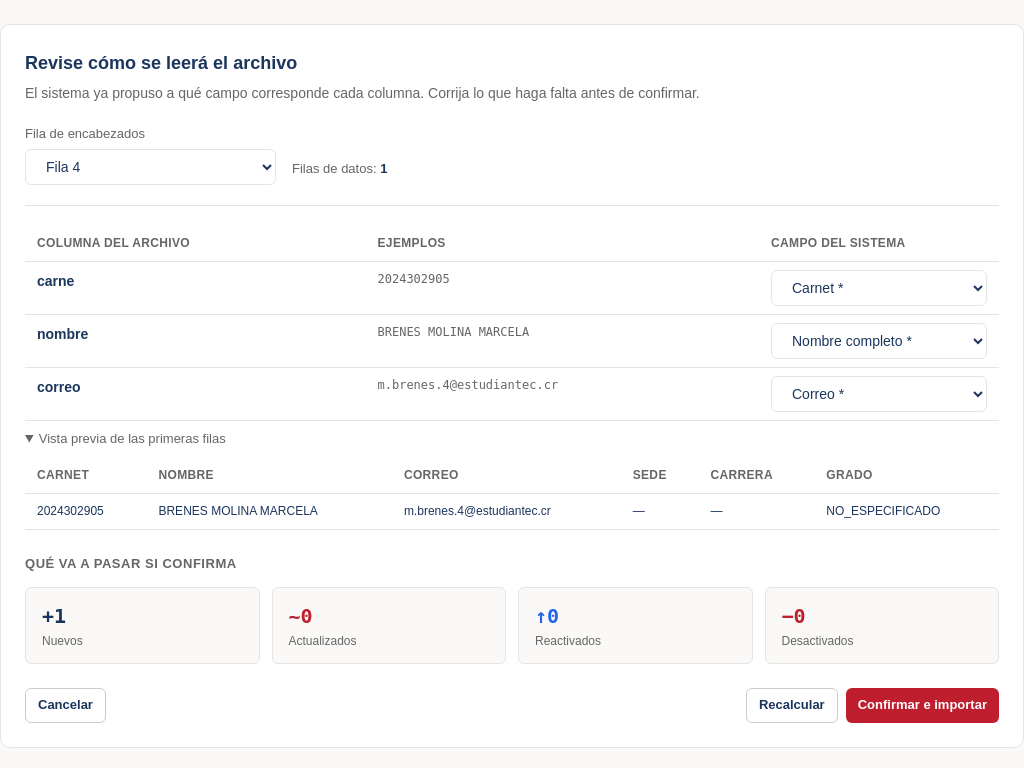
ColumnMapper › obliga a recalcular después de cambiar una columna
Select "Sede" in the dropdown named "Campo para la columna correo" at (879, 394), box [771,376,987,412]
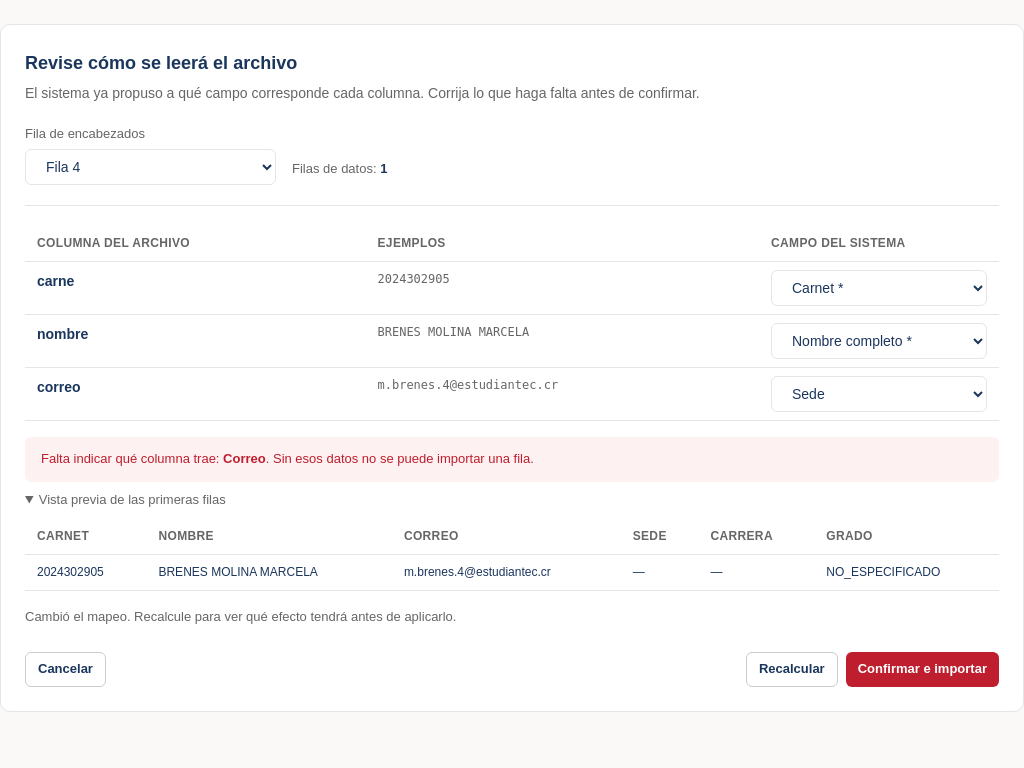
Now the button "Confirmar e importar" is disabled, box [846,652,999,687]
Now the text "Recalcule para ver qué efecto tendrá" is shown, box [25,609,456,624]
